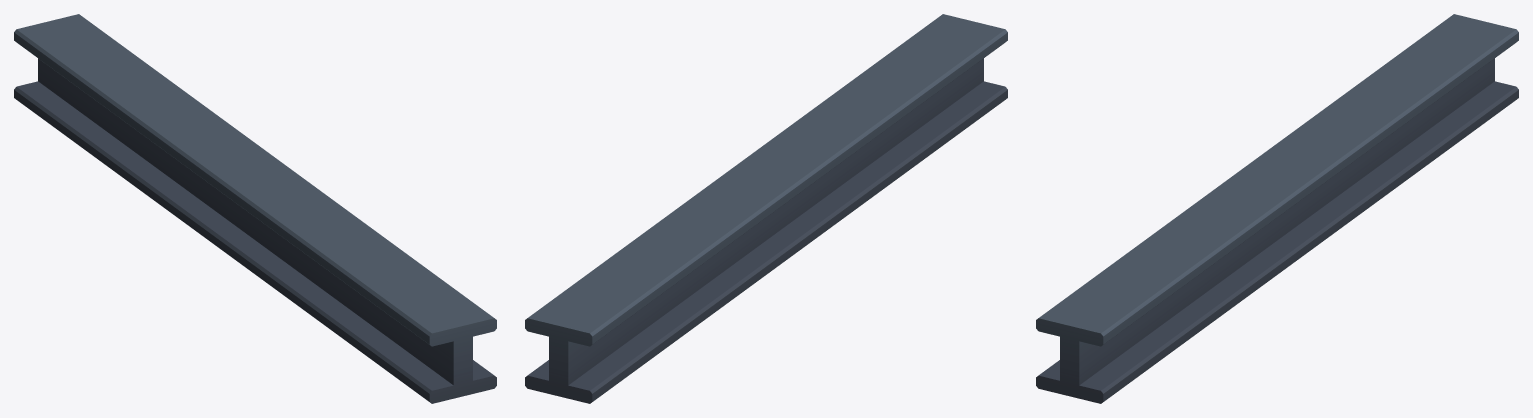
The model's file is Rail_C_1_1.glb.
The picture shows the model from 3 angles, left to right: view 1: azimuth 30°, elevation 25°; view 2: azimuth 150°, elevation 25°; view 3: azimuth 330°, elevation 25°; orthographic projection.
Visible parts, largest first — view 1: Rail_C_1_1; view 2: Rail_C_1_1; view 3: Rail_C_1_1.
Boxes of the visible parts, x1,y1,x2,y2 form: Rail_C_1_1: (14,14,496,403); Rail_C_1_1: (525,14,1007,403); Rail_C_1_1: (1036,14,1518,403).
Size of the model in its own units: 0.3743 by 0.3743 by 4.
Materials: 1 (1 with a texture image).
